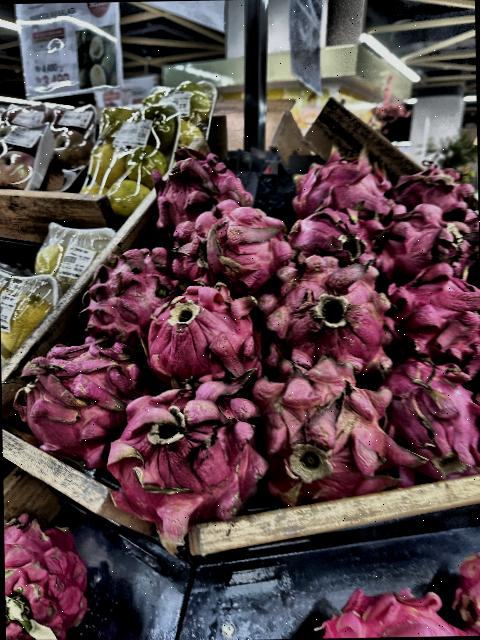buah-naga-matang: (110, 377, 270, 533), (253, 362, 411, 508), (264, 258, 394, 375), (17, 344, 142, 454), (379, 364, 480, 481), (134, 286, 258, 376), (180, 206, 296, 300), (379, 260, 480, 367), (4, 517, 89, 640), (309, 584, 467, 638), (288, 142, 390, 222), (85, 250, 174, 340), (151, 145, 246, 226), (376, 198, 472, 278), (290, 204, 381, 267), (389, 159, 475, 224)
